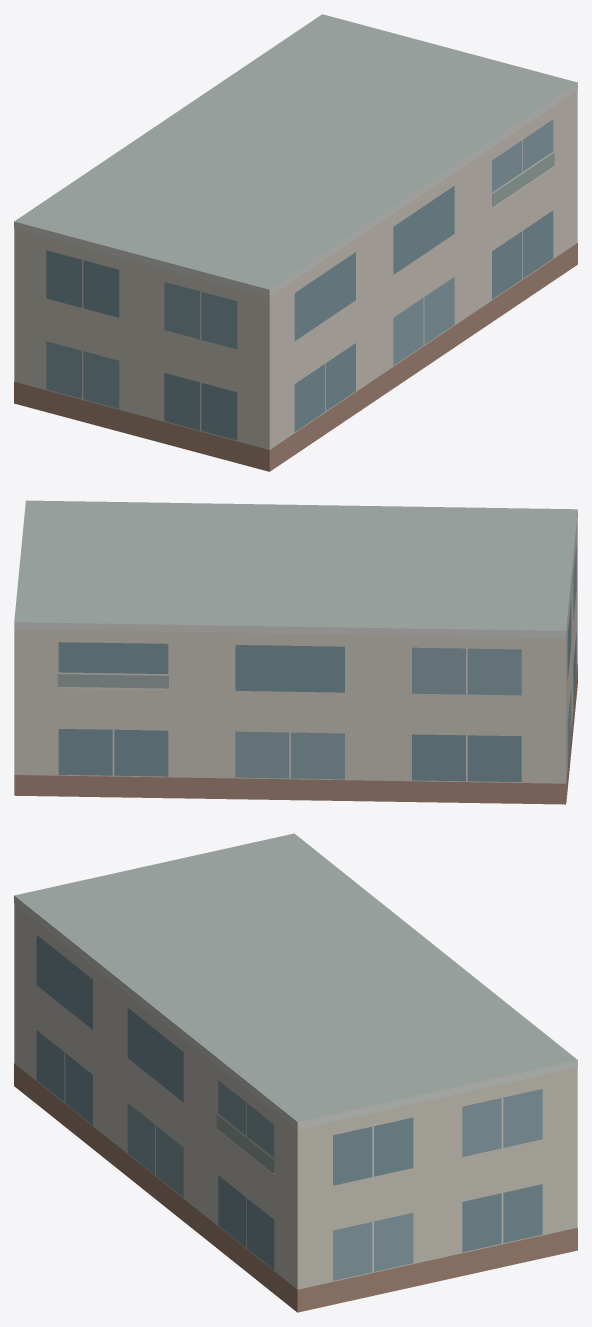
Rendered from survey-upis-32856454.glb.
3 views of the same model, one above another, from view 1: azimuth 30°, elevation 25°; view 2: azimuth 150°, elevation 25°; view 3: azimuth 270°, elevation 25° (orthographic). The views are drawn at different scales.
Visible parts, largest first — view 1: survey-upis-32856454.tmp; view 2: survey-upis-32856454.tmp; view 3: survey-upis-32856454.tmp.
Part boxes in pixels (box(x1,y1,x2,y2)): survey-upis-32856454.tmp: box(14, 14, 577, 471); survey-upis-32856454.tmp: box(14, 500, 577, 804); survey-upis-32856454.tmp: box(14, 833, 577, 1312).
Size of the model in its own units: 19.84 by 6.1 by 16.37.
